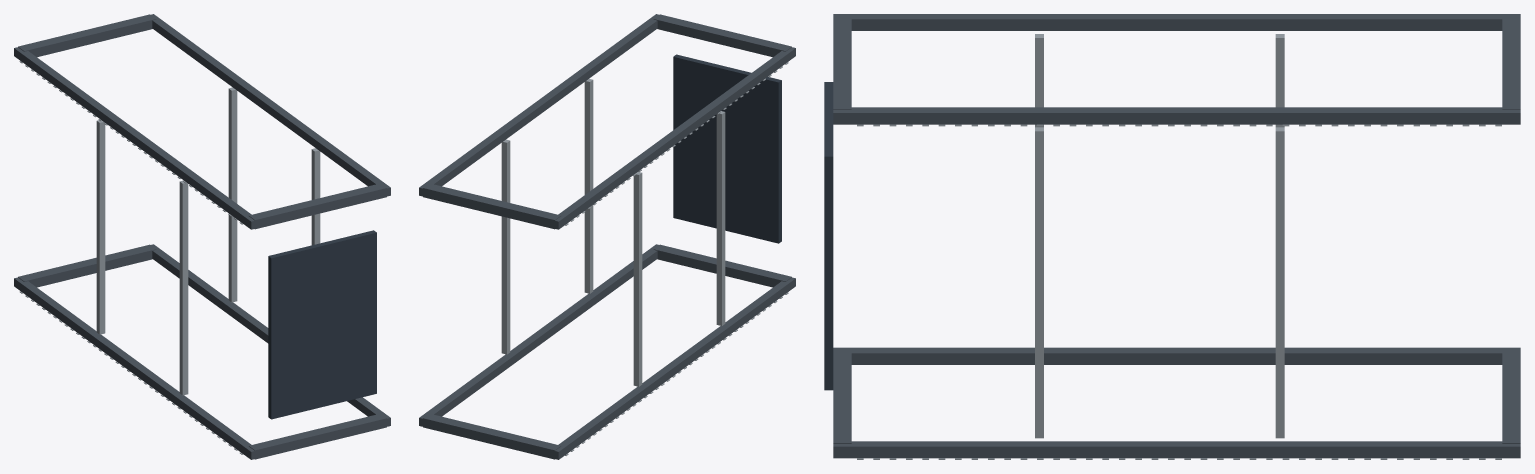
Rendered from rack_42u.glb.
3 renders of one model, left to right at view 1: azimuth 30°, elevation 25°; view 2: azimuth 150°, elevation 25°; view 3: azimuth 270°, elevation 25°, orthographic. The views are drawn at different scales.
Parts seen in each view (by area): view 1: 172_top cable tray, 041_vertical rack post, 000_vertical rack post, 123_vertical rack post, 082_vertical rack post, 169_rack side brace, 168_rack side brace, 167_rack rear crossbar, 166_rack crossbar, 165_rack rear crossbar, 170_rack side brace, 164_rack crossbar (+1 smaller); view 2: 172_top cable tray, 041_vertical rack post, 000_vertical rack post, 123_vertical rack post, 082_vertical rack post, 169_rack side brace, 168_rack side brace, 165_rack rear crossbar, 164_rack crossbar, 167_rack rear crossbar, 170_rack side brace, 171_rack side brace (+1 smaller); view 3: 082_vertical rack post, 123_vertical rack post, 000_vertical rack post, 041_vertical rack post, 170_rack side brace, 172_top cable tray, 171_rack side brace, 164_rack crossbar, 166_rack crossbar, 165_rack rear crossbar, 167_rack rear crossbar, 168_rack side brace (+1 smaller).
Part boxes in pixels (box(x1,y1,x2,y2)): 172_top cable tray: box(268, 230, 376, 419); 041_vertical rack post: box(14, 47, 258, 229); 000_vertical rack post: box(14, 277, 258, 459); 123_vertical rack post: box(151, 14, 390, 196); 082_vertical rack post: box(151, 244, 390, 427); 169_rack side brace: box(179, 180, 188, 395); 168_rack side brace: box(96, 120, 105, 334); 167_rack rear crossbar: box(248, 183, 386, 229); 166_rack crossbar: box(249, 413, 386, 459); 165_rack rear crossbar: box(18, 14, 156, 57); 170_rack side brace: box(228, 87, 237, 302); 164_rack crossbar: box(18, 244, 156, 287); 172_top cable tray: box(673, 54, 781, 243); 041_vertical rack post: box(551, 47, 795, 229); 000_vertical rack post: box(551, 277, 795, 459); 123_vertical rack post: box(419, 14, 658, 196); 082_vertical rack post: box(419, 244, 658, 427); 169_rack side brace: box(716, 111, 725, 325); 168_rack side brace: box(633, 172, 642, 386); 165_rack rear crossbar: box(423, 183, 561, 229); 164_rack crossbar: box(423, 413, 560, 459); 167_rack rear crossbar: box(653, 14, 791, 57); 170_rack side brace: box(501, 139, 510, 354); 171_rack side brace: box(584, 79, 593, 293); 082_vertical rack post: box(833, 441, 1520, 458); 123_vertical rack post: box(833, 107, 1520, 124); 000_vertical rack post: box(833, 347, 1520, 364); 041_vertical rack post: box(833, 14, 1520, 30); 170_rack side brace: box(1275, 127, 1284, 438); 172_top cable tray: box(824, 82, 833, 390); 171_rack side brace: box(1035, 127, 1043, 438); 164_rack crossbar: box(1502, 349, 1520, 443); 166_rack crossbar: box(833, 349, 851, 443); 165_rack rear crossbar: box(1502, 16, 1520, 109); 167_rack rear crossbar: box(833, 16, 851, 109); 168_rack side brace: box(1275, 34, 1284, 127).
Bounding box in the file's own units: 0.644 × 1.04 × 1.89.
